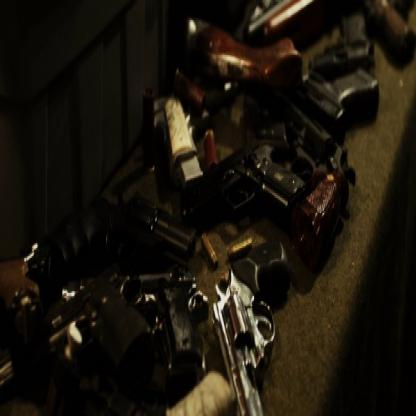Gun: (14, 2, 384, 414)
